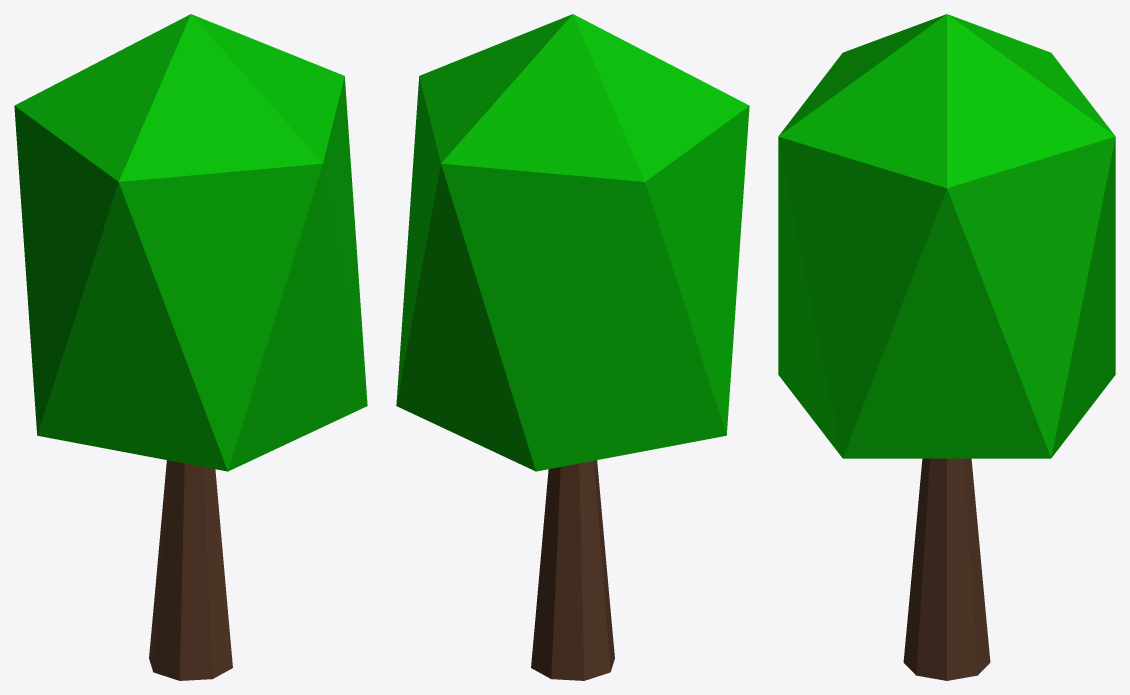
File: tree_03.glb
3 views of the same model, side by side, from view 1: azimuth 30°, elevation 25°; view 2: azimuth 150°, elevation 25°; view 3: azimuth 270°, elevation 25° (orthographic).
Parts seen in each view (by area): view 1: Tree_03; view 2: Tree_03; view 3: Tree_03.
Boxes of the visible parts, x1,y1,x2,y2 form: Tree_03: (14, 14, 367, 680); Tree_03: (396, 14, 749, 680); Tree_03: (778, 14, 1115, 680).
Size of the model in its own units: 8.16 by 16.47 by 7.76.
Materials: 1 (1 with a texture image).
